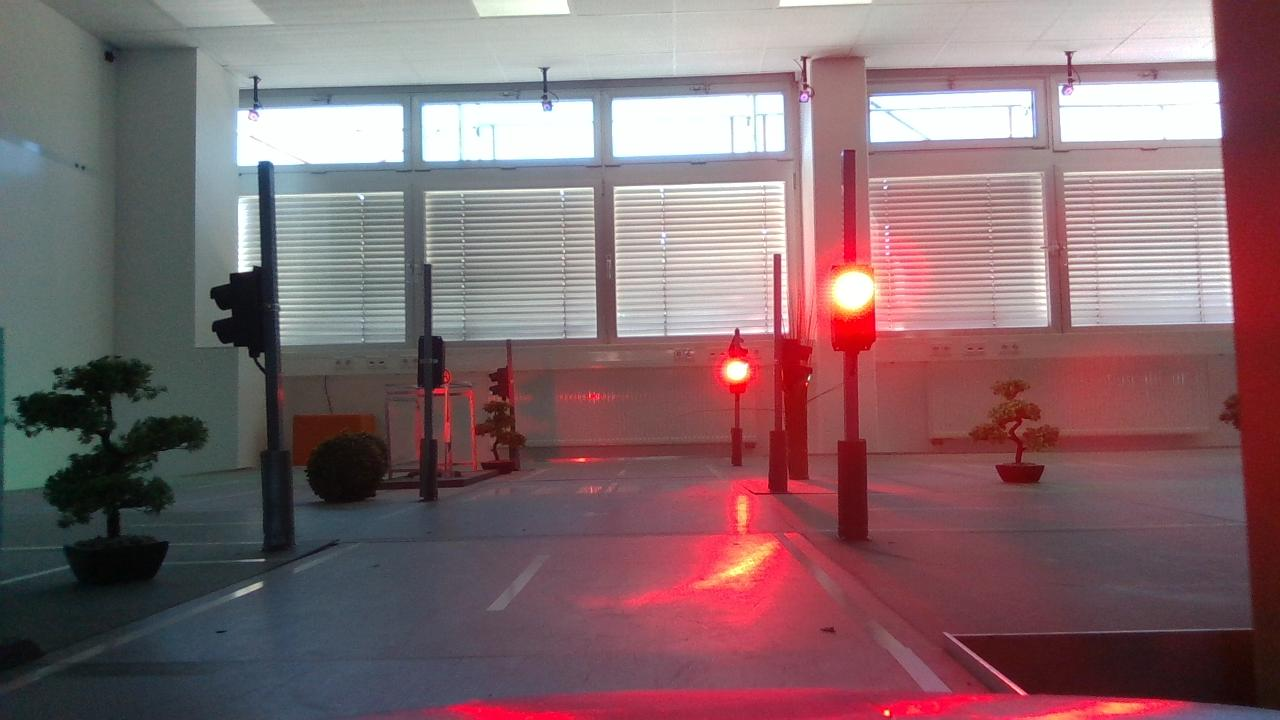traffic_light_red: (817, 250, 895, 366)
